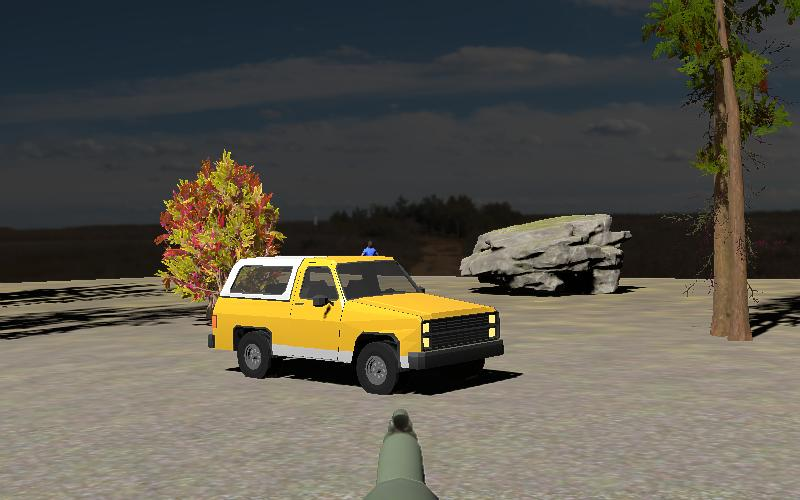Human: (359, 237, 381, 258)
car: (205, 254, 507, 394)
